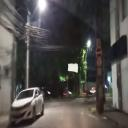NoEstacionar: (96, 57, 103, 69)
